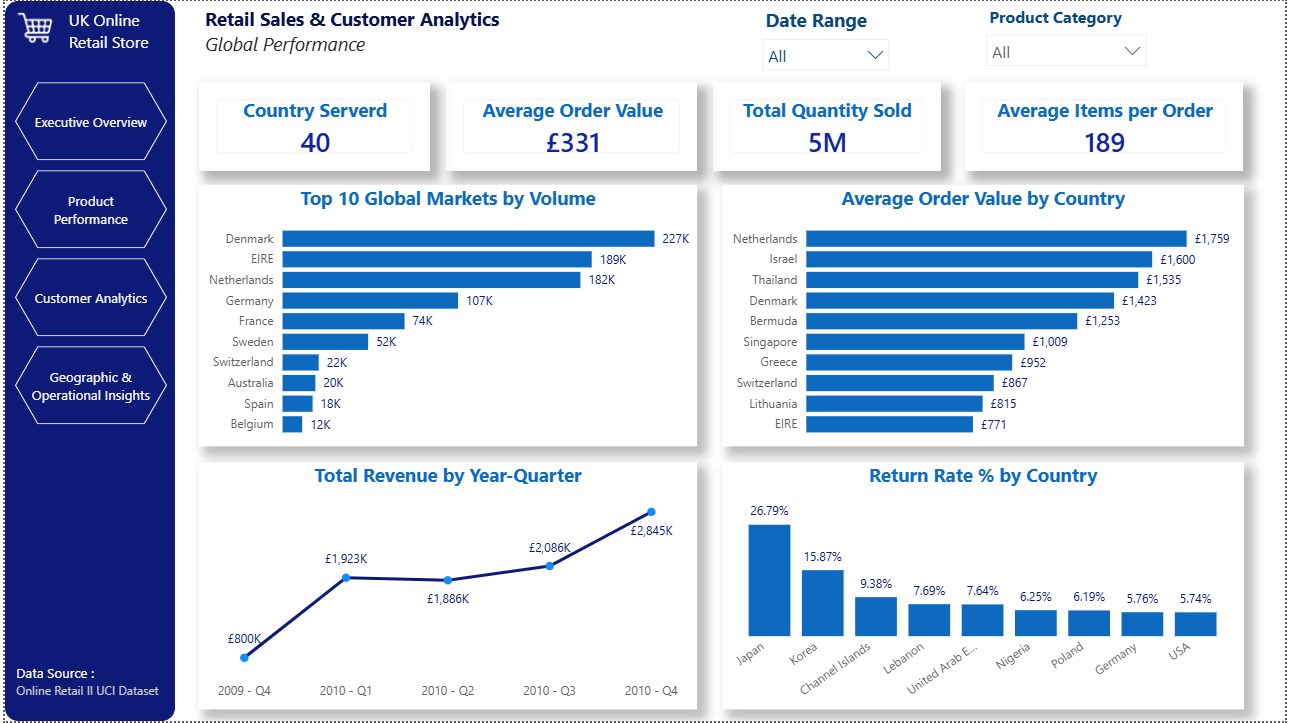

Layout of this report page (visuals, bound fields, positions):
{"tool":"powerbi","page":{"name":"Geographic & Operational Insights","canvas":[1280,720],"ordinal":3},"visuals":[{"type":"group","id":"g1","title":"Group 1","box":[0,0,170,720],"z":0},{"type":"textbox","box":[6.9,656.9,155.1,63.1],"z":1000},{"type":"group","id":"g2","title":"Group 2","box":[194.9,0,955.9,71.4],"z":2000},{"type":"cardVisual","title":"Product Category","fields":{"Data":["CategoryLookup.Country Serverd"]},"box":[194.3,81.4,231.4,88.6],"z":3000},{"type":"textbox","box":[194.9,0,334.8,60.4],"z":4000,"group":"g2"},{"type":"cardVisual","title":"Product Category","fields":{"Data":["CategoryLookup.Average Order Value"]},"box":[441.4,81.4,251.4,88.6],"z":4000},{"type":"cardVisual","title":"Product Category","fields":{"Data":["CategoryLookup.Total Quantity Sold"]},"box":[707.1,81.4,228.6,88.6],"z":5000},{"type":"shape","box":[0,0,170,720],"z":6000,"group":"g1"},{"type":"cardVisual","title":"Product Category","fields":{"Data":["CategoryLookup.Average Items per Order"]},"box":[960,81.4,278.6,88.6],"z":6000},{"type":"image","box":[8.8,10,42.5,33.8],"z":7000,"group":"g1"},{"type":"clusteredBarChart","title":"Top 10 Global Markets by Volume","fields":{"Category":["Sales.Country"],"Y":["Sum(Sales.Quantity)"]},"box":[194.3,183.8,498.6,261.4],"z":7000},{"type":"textbox","box":[58.8,2.5,103.8,57.5],"z":8000,"group":"g1"},{"type":"clusteredBarChart","fields":{"Y":["CategoryLookup.Average Order Value"],"Category":["Sales.Country"]},"box":[717.1,184.3,521.4,261.4],"z":8000},{"type":"pageNavigator","box":[10,81.4,152.9,344.3],"z":8500,"group":"g1"},{"type":"lineChart","fields":{"Y":["CategoryLookup.Total Revenue"],"Category":["Date Table.Year-Quarter"]},"box":[194.3,461.4,498.6,247.1],"z":9000},{"type":"slicer","fields":{"Values":["Date Table.Month Name","Date Table.Year"]},"box":[747.9,1.4,146.8,70],"z":10000,"group":"g2"},{"type":"columnChart","fields":{"Category":["Sales.Country"],"Y":["CategoryLookup.Return Rate %"]},"box":[717.1,461.4,521.4,247.1],"z":10000},{"type":"slicer","fields":{"Values":["Sales.Product Category"]},"box":[970.8,0,180,71.4],"z":11000,"group":"g2"}]}

Visuals, with their boxes in screenshot pixels (x1, y1, x2, y2), scaled from the page's 1280x720 canvas onto the 1296x723 screenshot:
"Group 1" group: 0 0 172 722
textbox: 7 660 164 722
"Group 2" group: 197 0 1165 72
"Product Category" cardVisual: 197 82 431 171
textbox: 197 0 536 61
"Product Category" cardVisual: 447 82 701 171
"Product Category" cardVisual: 716 82 947 171
shape: 0 0 172 722
"Product Category" cardVisual: 972 82 1254 171
image: 9 10 52 44
"Top 10 Global Markets by Volume" clusteredBarChart: 197 185 702 447
textbox: 60 3 165 60
clusteredBarChart - CategoryLookup.Average Order Value x Sales.Country: 726 185 1254 448
pageNavigator: 10 82 165 427
lineChart - CategoryLookup.Total Revenue x Date Table.Year-Quarter: 197 463 702 711
slicer - Date Table.Month Name x Date Table.Year: 757 1 906 72
columnChart - Sales.Country x CategoryLookup.Return Rate %: 726 463 1254 711
slicer - Sales.Product Category: 983 0 1165 72
